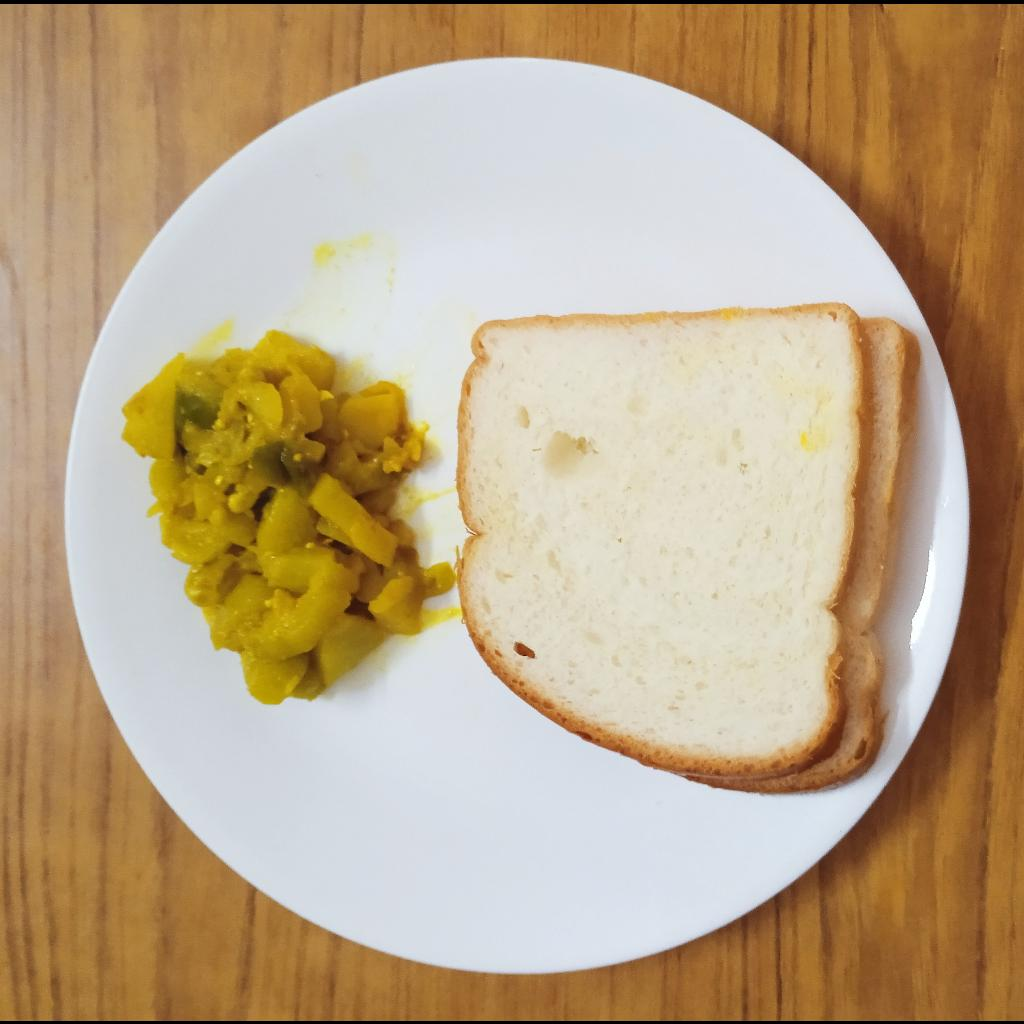bread: (451, 299, 923, 795)
kumra-vaji: (115, 327, 433, 715)
